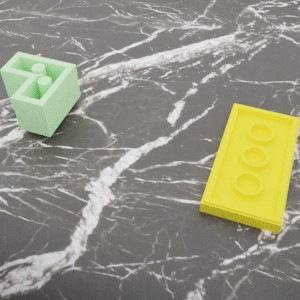lego: (199, 103, 299, 234), (0, 51, 80, 137)
